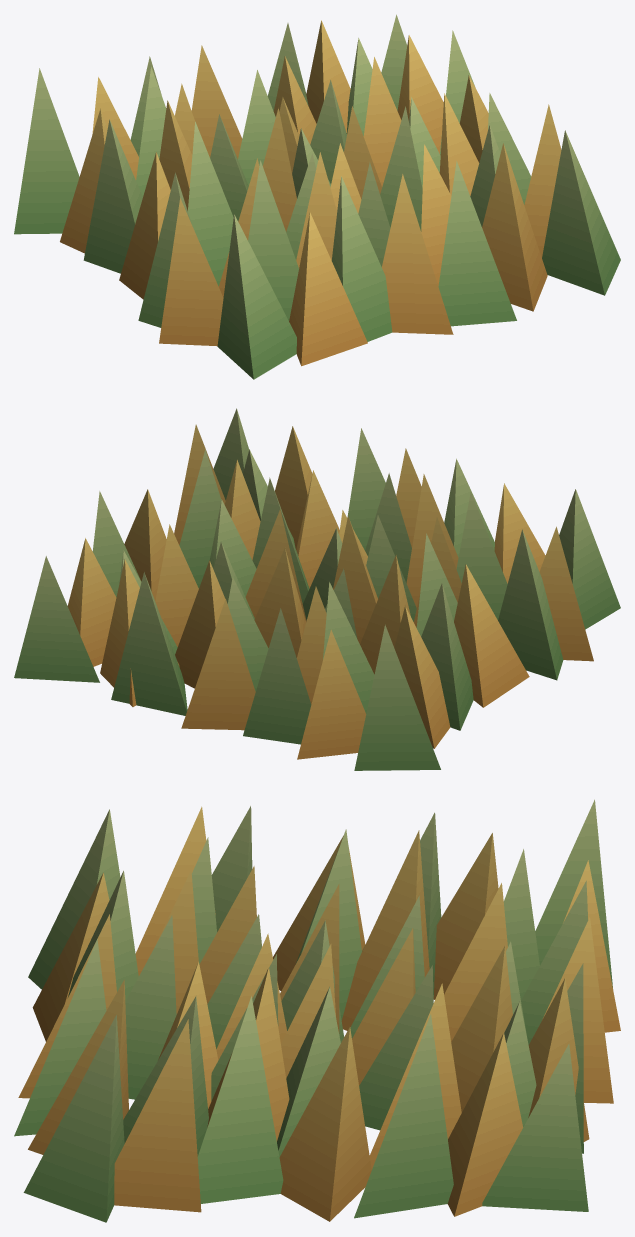
File: cn_wheat_patch_2.glb
3 views of the same model, one above another, from view 1: azimuth 30°, elevation 25°; view 2: azimuth 150°, elevation 25°; view 3: azimuth 270°, elevation 25° (orthographic). The views are drawn at different scales.
Parts seen in each view (by area): view 1: cn_wheat_patch_3; view 2: cn_wheat_patch_3; view 3: cn_wheat_patch_3.
Boxes of the visible parts, <box> form: cn_wheat_patch_3: <box>14,14,620,379</box>; cn_wheat_patch_3: <box>14,408,620,770</box>; cn_wheat_patch_3: <box>14,799,620,1222</box>.
Bounding box in the file's own units: 2.29 × 0.7606 × 2.2.
2 materials, 2 textured.
